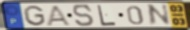0: (125, 5, 146, 25)
A: (46, 4, 73, 26)
G: (22, 4, 47, 27)
L: (97, 4, 118, 27)
N: (147, 3, 172, 27)
S: (72, 3, 96, 27)
